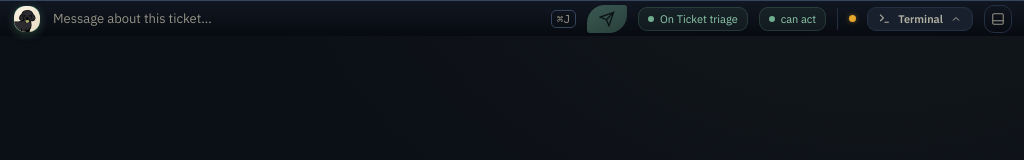
the / menu › completes the highlighted command on Enter instead of sending it
The width and height of the screenshot is (1024, 160).
Type "/qu" into the field with placeholder "Message about this ticket…" at x=295, y=18, box x1=51 y1=9 x2=540 y2=28
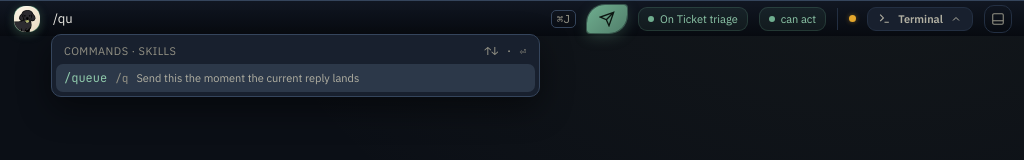
Press Enter in the field with placeholder "Message about this ticket…", box x1=51 y1=9 x2=540 y2=28
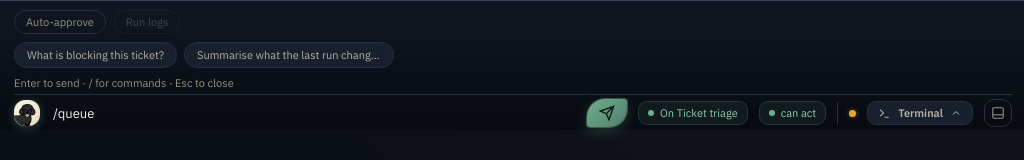
Check: the field with placeholder "Message about this ticket…" holds "/queue ", box x1=51 y1=104 x2=576 y2=122
